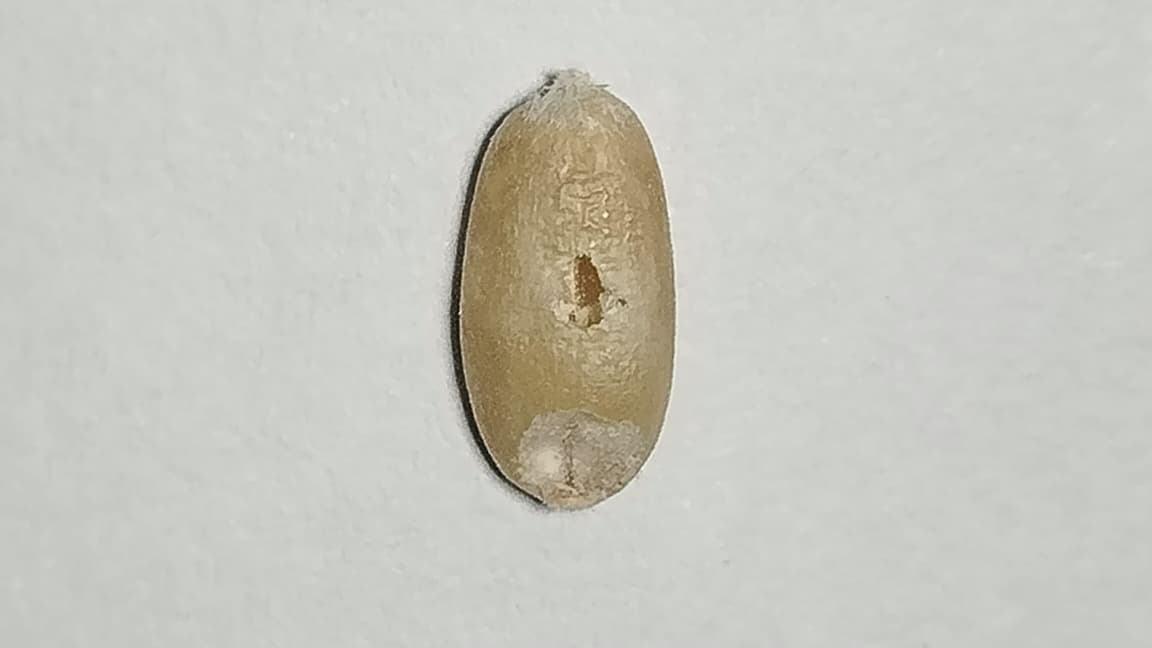damage: (456, 76, 674, 499)
insectdamage: (516, 409, 646, 509), (536, 254, 622, 325)
